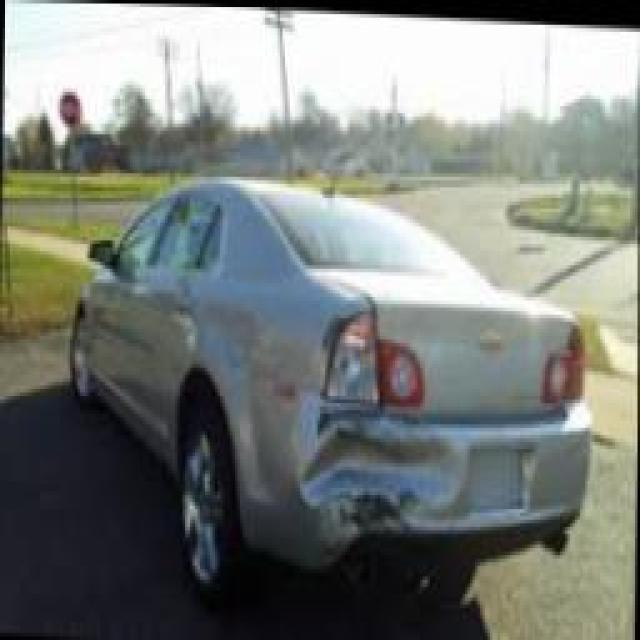replaceable: (319, 418, 472, 555), (337, 306, 382, 415)
